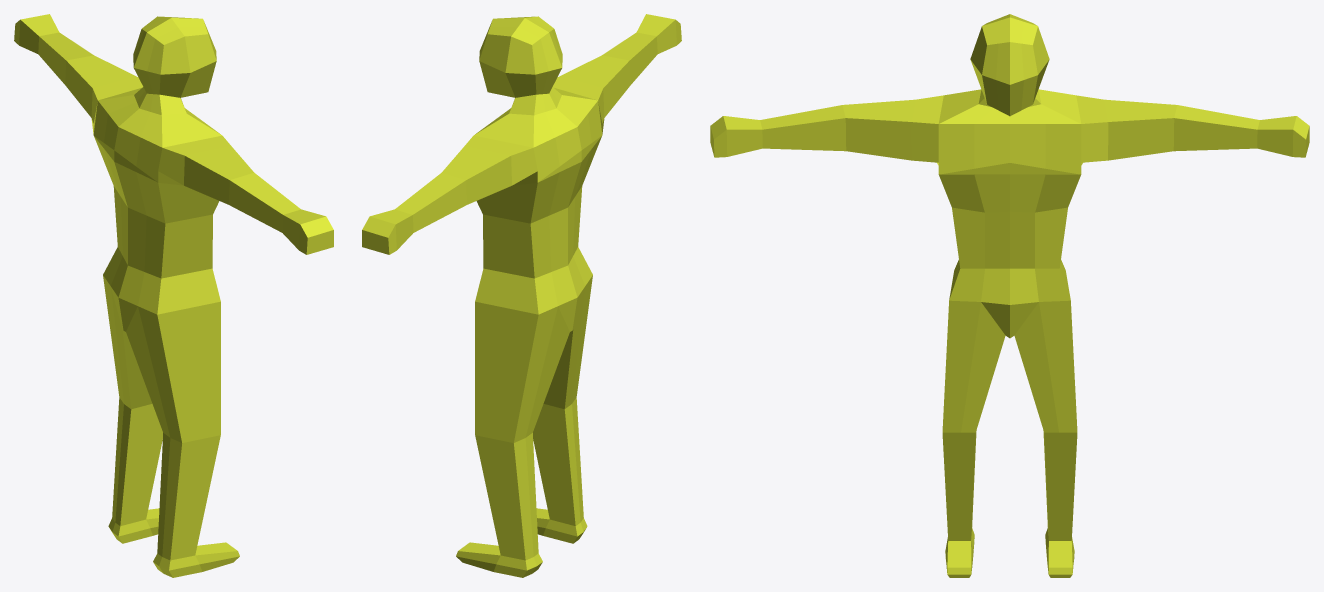
Rendered from Personnage.fbx.
The picture shows the model from 3 angles, left to right: view 1: azimuth 30°, elevation 25°; view 2: azimuth 150°, elevation 25°; view 3: azimuth 270°, elevation 25°; orthographic projection. The views are drawn at different scales.
Visible parts, largest first — view 1: Personnage; view 2: Personnage; view 3: Personnage.
Part boxes in pixels (<box>): Personnage: <box>14,14,333,577</box>; Personnage: <box>362,14,681,577</box>; Personnage: <box>710,14,1309,577</box>.
Bounding box in the file's own units: 328 × 1635 × 1632.
